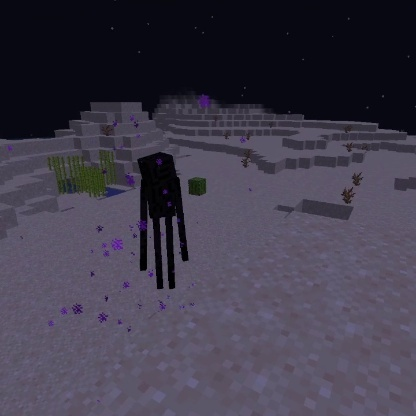enderman: (133, 149, 192, 292)
